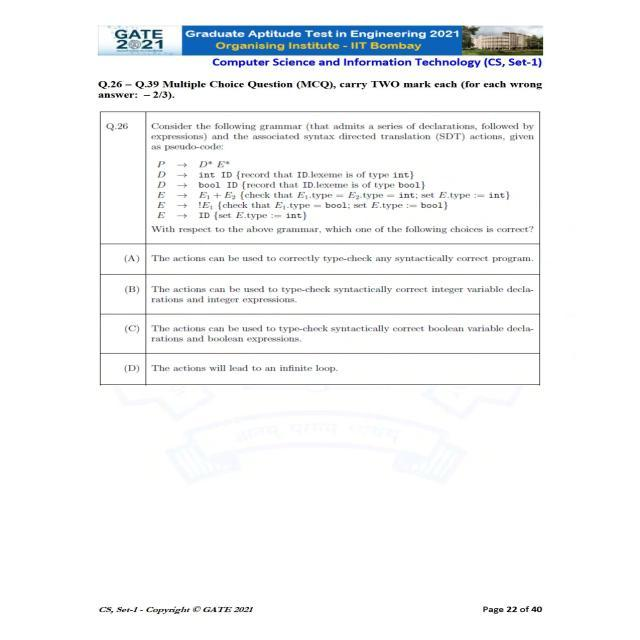Answer_Block: (103, 248, 533, 378)
Question_Answer_Block: (101, 112, 536, 381)
Question_Block: (102, 115, 536, 244)
Question_Paper_Area: (100, 112, 540, 384)
